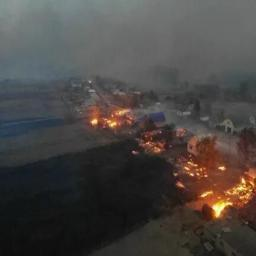Low smoke: (0, 0, 256, 118)
Medium fire: (79, 88, 255, 232)
